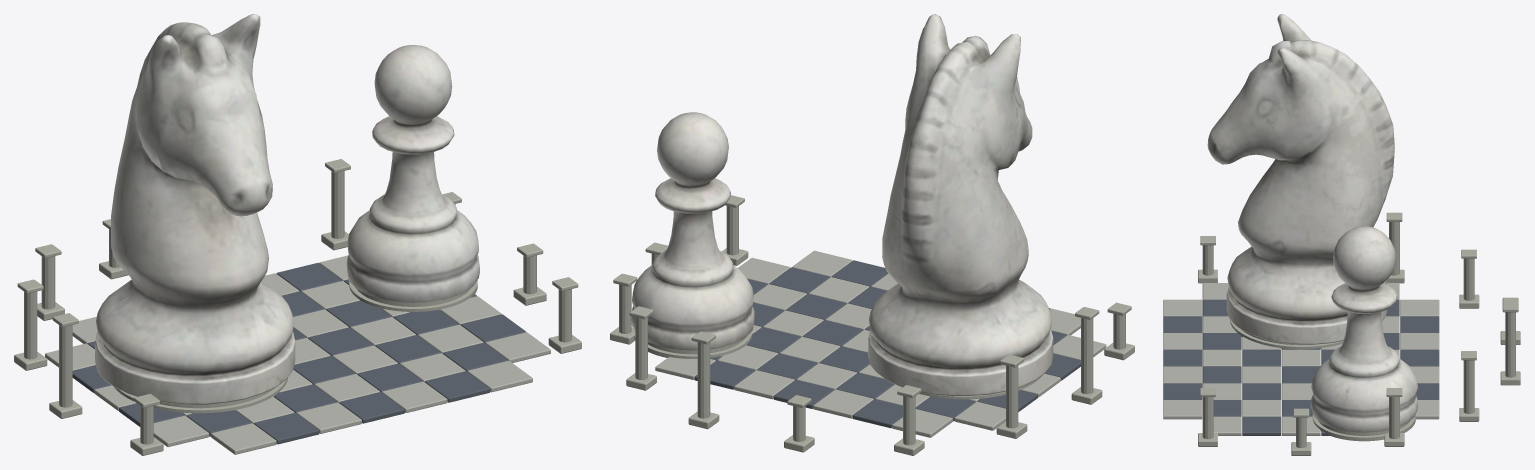
The model's file is chess-monuments.glb.
3 renders of one model, left to right at view 1: azimuth 30°, elevation 25°; view 2: azimuth 150°, elevation 25°; view 3: azimuth 270°, elevation 25°, orthographic. The views are drawn at different scales.
Parts seen in each view (by area): view 1: Turned pawn, Weathered chess court, Weathered chess court.001, Monument foundation; view 2: Turned pawn, Weathered chess court, Weathered chess court.001, Monument foundation; view 3: Turned pawn, Weathered chess court, Weathered chess court.001, Monument foundation.
Boxes of the visible parts, left/top/right/bottom form: Turned pawn: left=95, top=14, right=479, bottom=404; Weathered chess court: left=45, top=255, right=550, bottom=454; Weathered chess court.001: left=72, top=263, right=525, bottom=444; Monument foundation: left=14, top=159, right=581, bottom=455; Turned pawn: left=631, top=14, right=1053, bottom=396; Weathered chess court: left=655, top=250, right=1106, bottom=437; Weathered chess court.001: left=694, top=260, right=1080, bottom=428; Monument foundation: left=610, top=195, right=1134, bottom=455; Turned pawn: left=1207, top=14, right=1418, bottom=432; Weathered chess court: left=1163, top=283, right=1439, bottom=435; Weathered chess court.001: left=1163, top=299, right=1439, bottom=435; Monument foundation: left=1198, top=212, right=1520, bottom=455.
Size of the model in its own units: 15.7 by 11.22 by 12.48.
4 materials, 1 textured.
